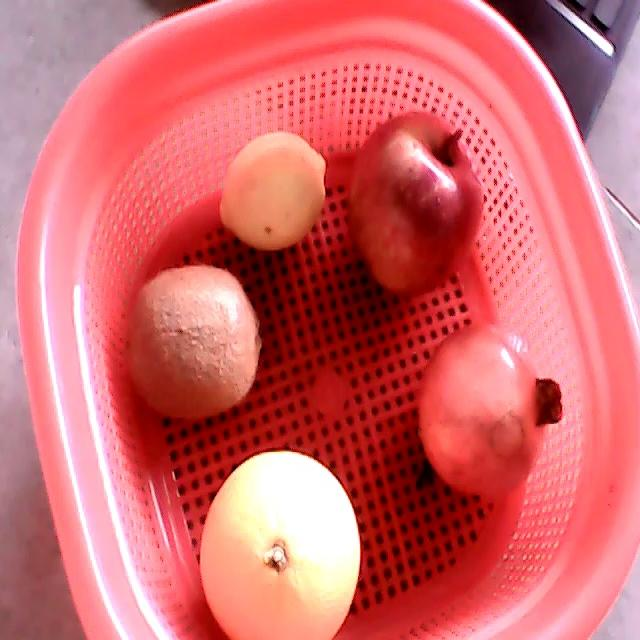apple: (350, 111, 484, 295)
kiwi: (125, 263, 262, 418)
lemon: (219, 132, 326, 249)
orange: (198, 451, 360, 639)
pomegranate: (419, 324, 564, 498)
